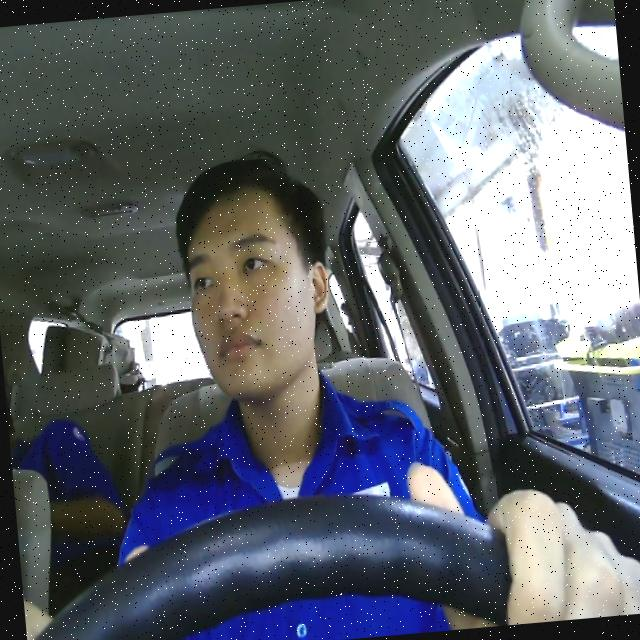seeing_left: (176, 174, 337, 403)
